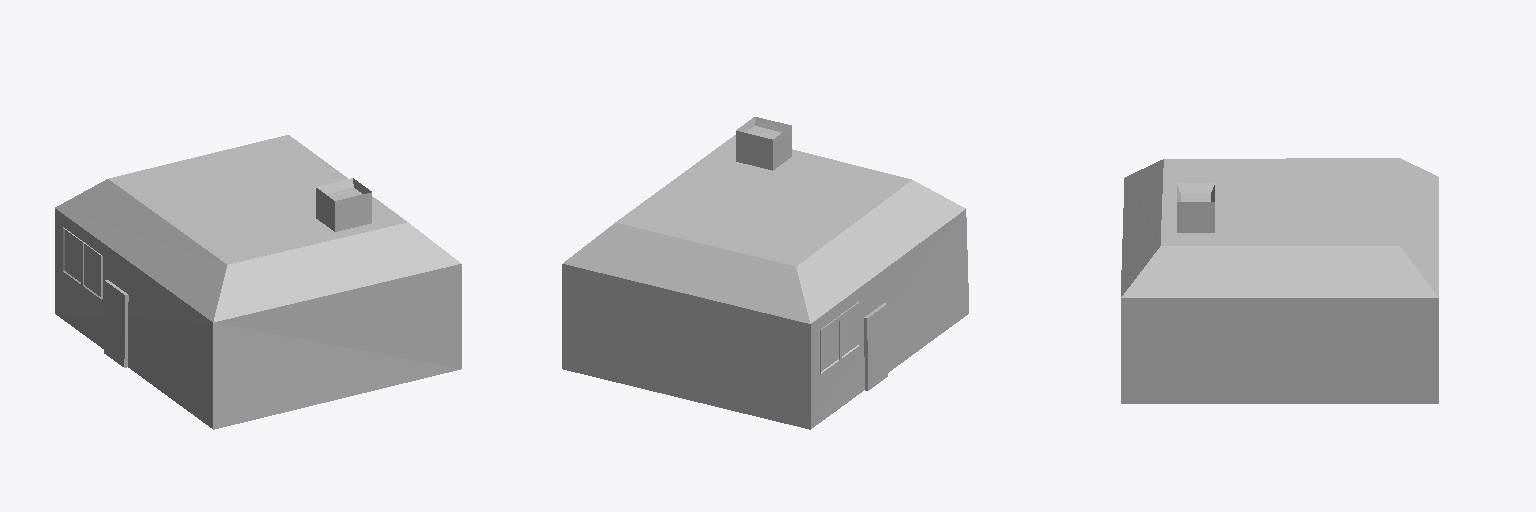
The model's file is house1.obj.
3 views of the same model, side by side, from view 1: azimuth 30°, elevation 25°; view 2: azimuth 150°, elevation 25°; view 3: azimuth 270°, elevation 25° (orthographic).
Parts seen in each view (by area): view 1: Cube; view 2: Cube; view 3: Cube.
Boxes of the visible parts, x1,y1,x2,y2 form: Cube: [55, 135, 461, 429]; Cube: [562, 117, 968, 429]; Cube: [1121, 158, 1438, 403].
Size of the model in its own units: 9.3 by 6.05 by 10.14.